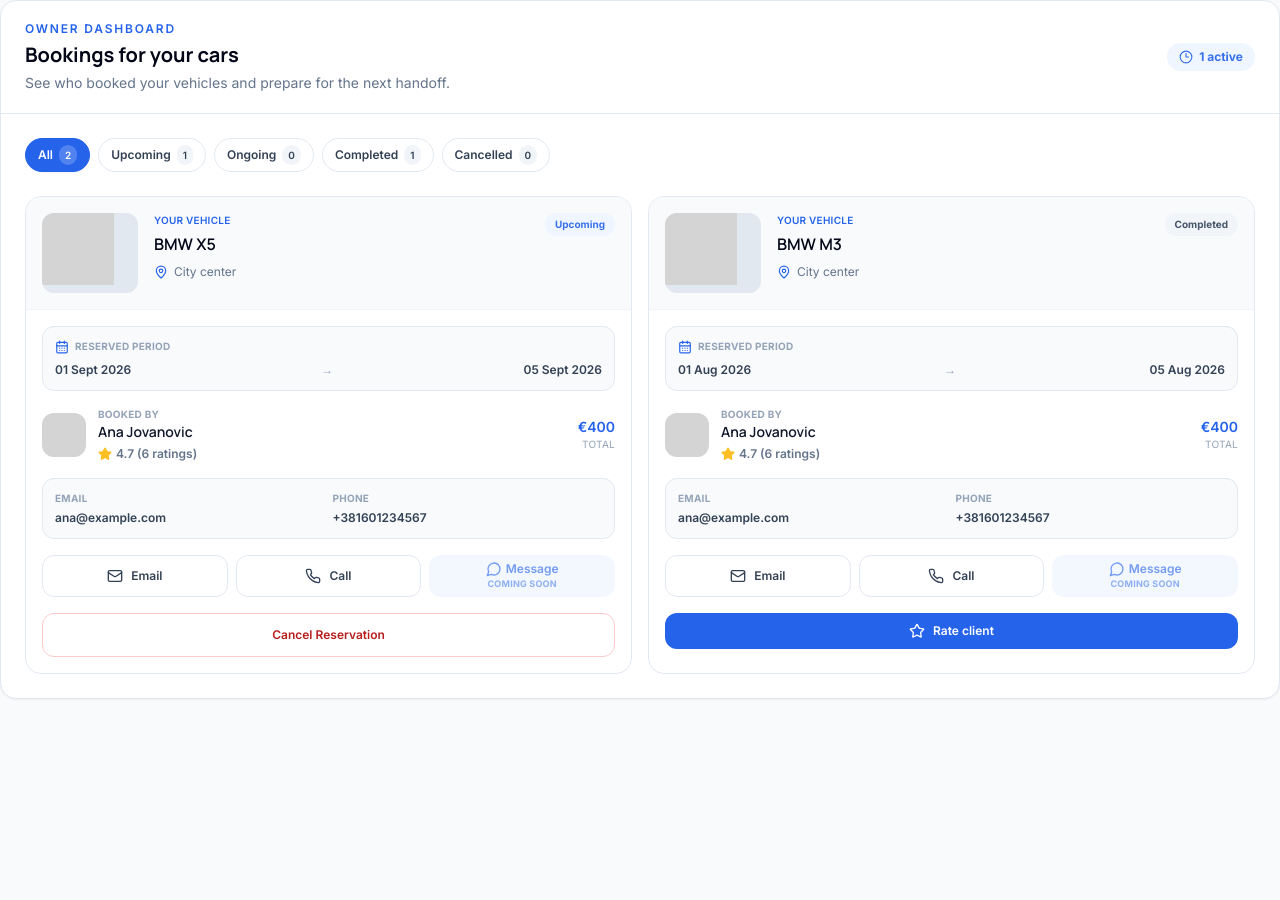
it: IncomingBookingsSection › filters bookings by their calculated lifecycle status
Click the tab "Completed 1" at (378, 155), box [322,138,434,172]
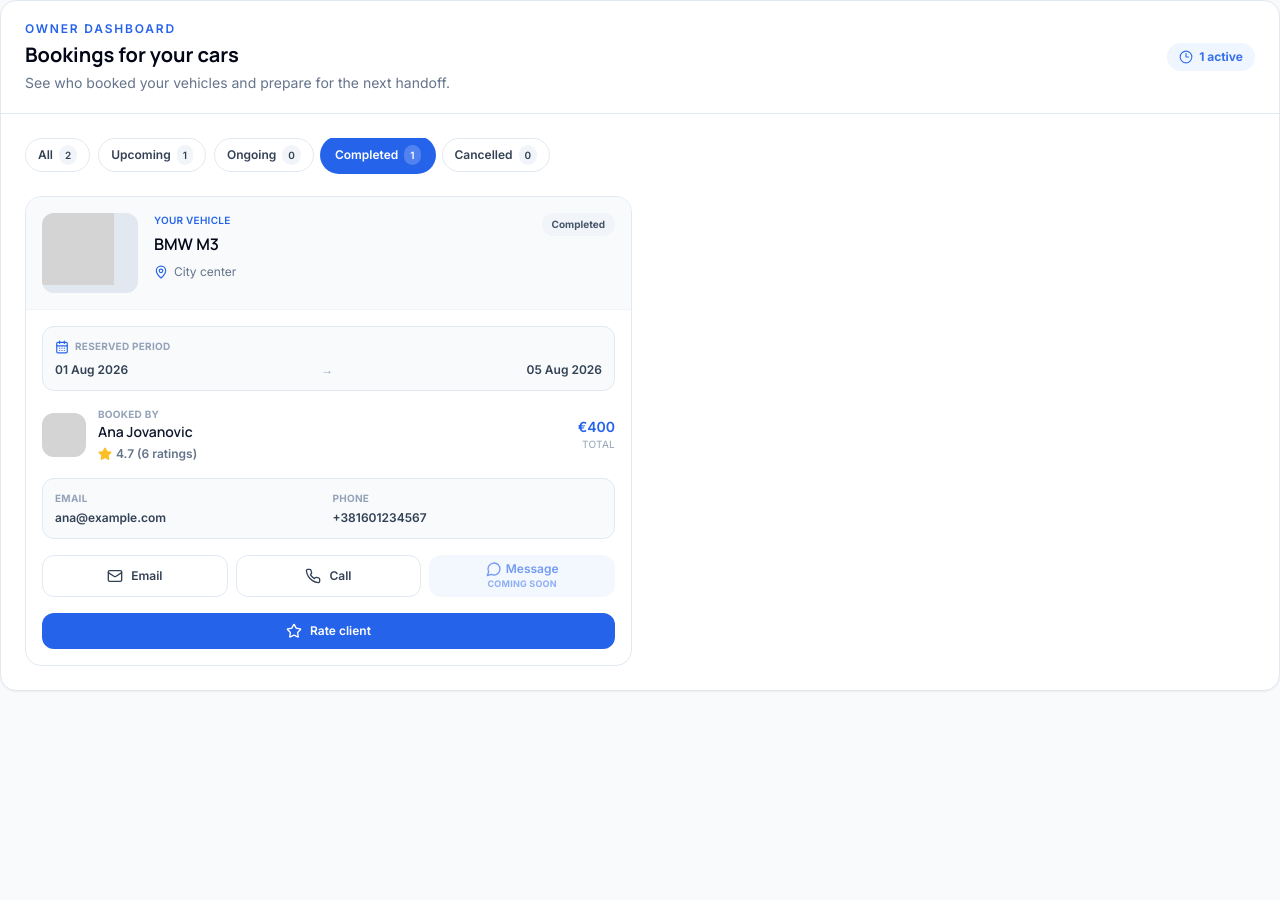
Expected: the heading "BMW M3" is shown, [154,233,219,255]
Expected: the heading "BMW X5" is gone
